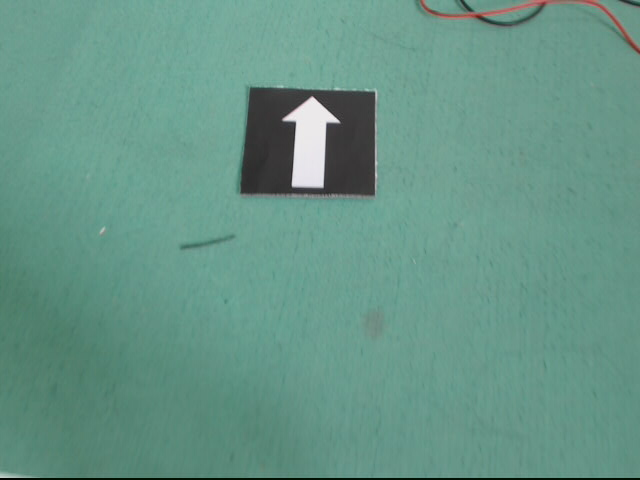straight: (238, 87, 379, 195)
